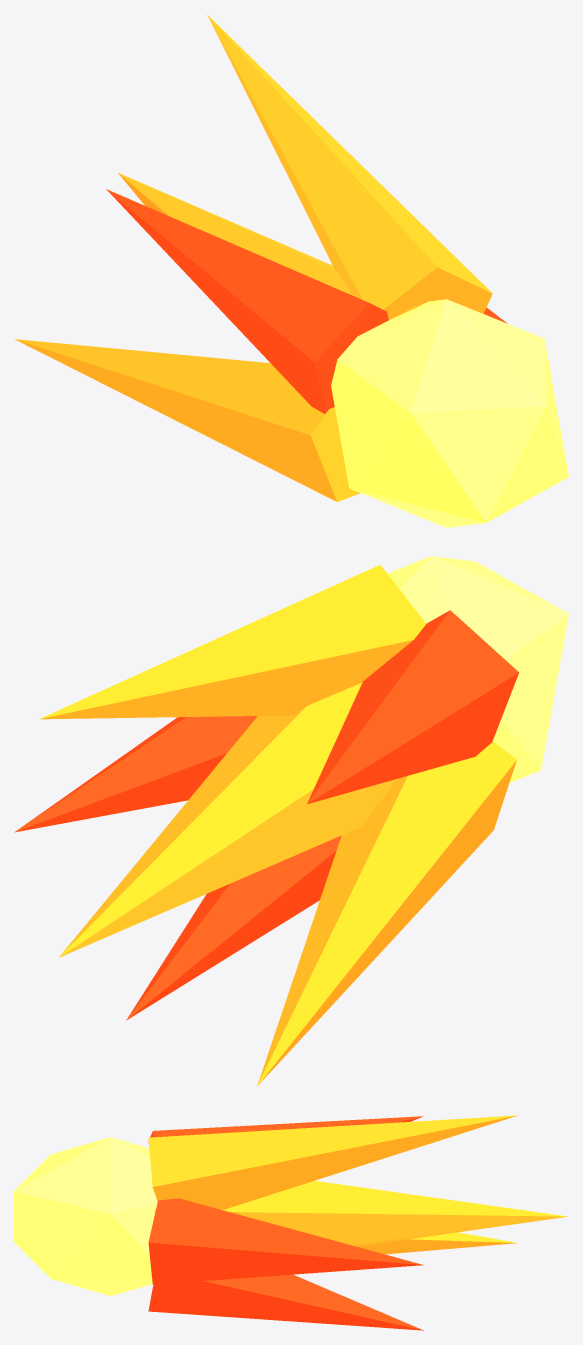
The model's file is fx_firebolt.glb.
3 renders of one model, top to bottom at view 1: azimuth 30°, elevation 25°; view 2: azimuth 150°, elevation 25°; view 3: azimuth 270°, elevation 25°, orthographic. The views are drawn at different scales.
Visible parts, largest first — view 1: Core, Tail_1, Tail_3, Tail_2, Tail_Main; view 2: Tail_Main, Tail_3, Tail_1, Tail_2, Core, Tail_4, Tail_0; view 3: Core, Tail_1, Tail_0, Tail_Main, Tail_4, Tail_3, Tail_2.
Boxes of the visible parts, x1,y1,x2,y2 form: Core: (331, 299, 568, 527); Tail_1: (207, 14, 492, 319); Tail_3: (14, 339, 360, 501); Tail_2: (106, 189, 388, 413); Tail_Main: (118, 173, 417, 312); Tail_Main: (58, 682, 396, 957); Tail_3: (257, 741, 516, 1086); Tail_1: (39, 565, 425, 719); Tail_2: (307, 610, 519, 804); Core: (387, 556, 568, 782); Tail_4: (126, 835, 341, 1020); Tail_0: (15, 716, 257, 832); Core: (14, 1137, 157, 1295); Tail_1: (148, 1115, 517, 1209); Tail_0: (148, 1198, 423, 1284); Tail_Main: (154, 1180, 567, 1246); Tail_4: (148, 1274, 423, 1330); Tail_3: (357, 1232, 517, 1254); Tail_2: (148, 1116, 423, 1143).
Size of the model in its own units: 0.2329 by 0.2473 by 0.5695.
